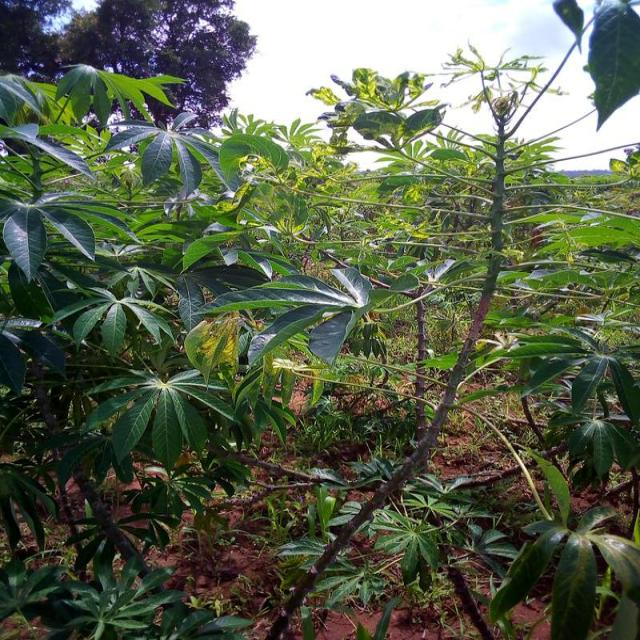cassava leaf: (586, 0, 639, 131)
